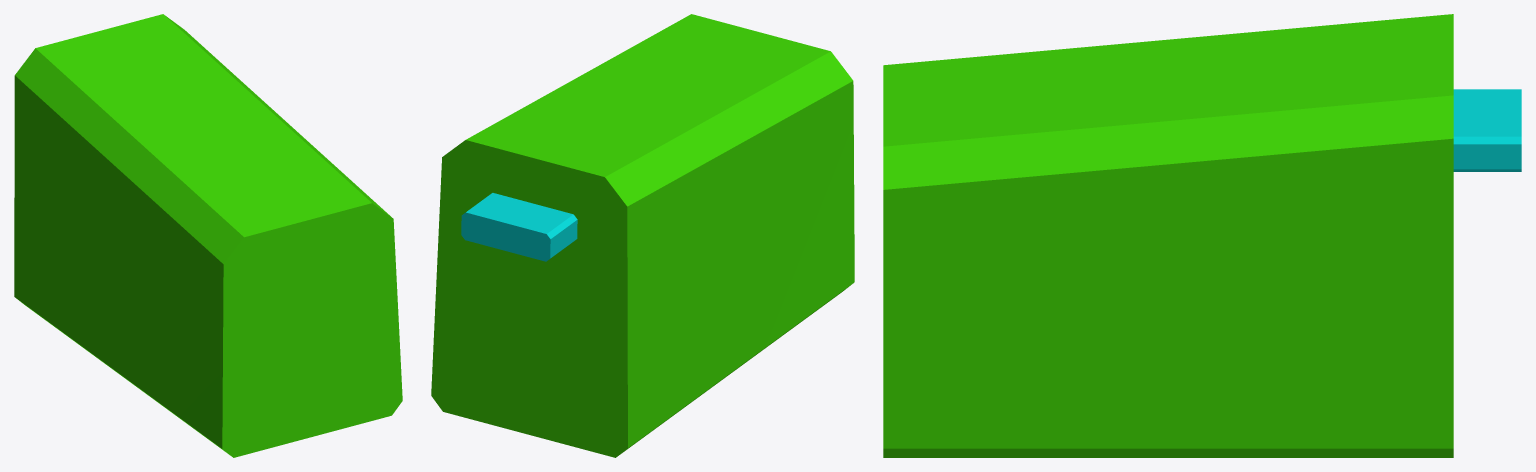
Rendered from Main Gun Mag.fbx.
The picture shows the model from 3 angles, left to right: view 1: azimuth 30°, elevation 25°; view 2: azimuth 150°, elevation 25°; view 3: azimuth 270°, elevation 25°; orthographic projection. The views are drawn at different scales.
Parts seen in each view (by area): view 1: Mag; view 2: Mag; view 3: Mag.
Boxes of the visible parts, bbox=[...] form: Mag: bbox=[14, 14, 402, 457]; Mag: bbox=[431, 14, 854, 457]; Mag: bbox=[883, 14, 1521, 457].
Size of the model in its own units: 0.195 by 0.2665 by 0.4357.
